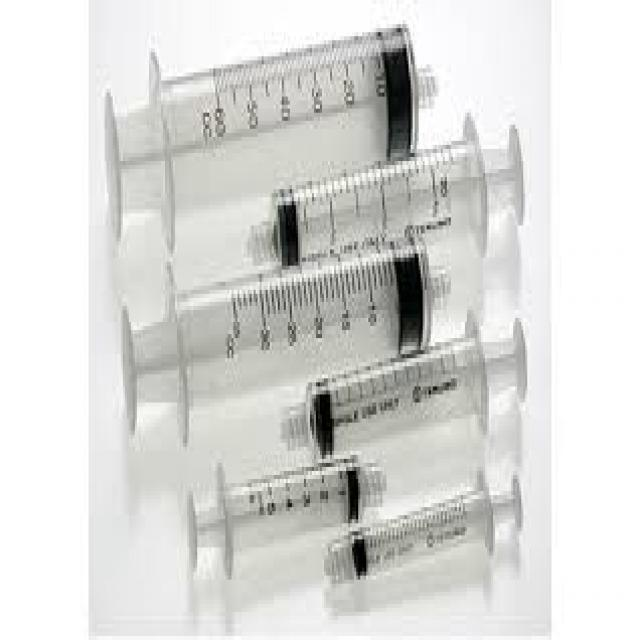syringe: (96, 67, 558, 306)
